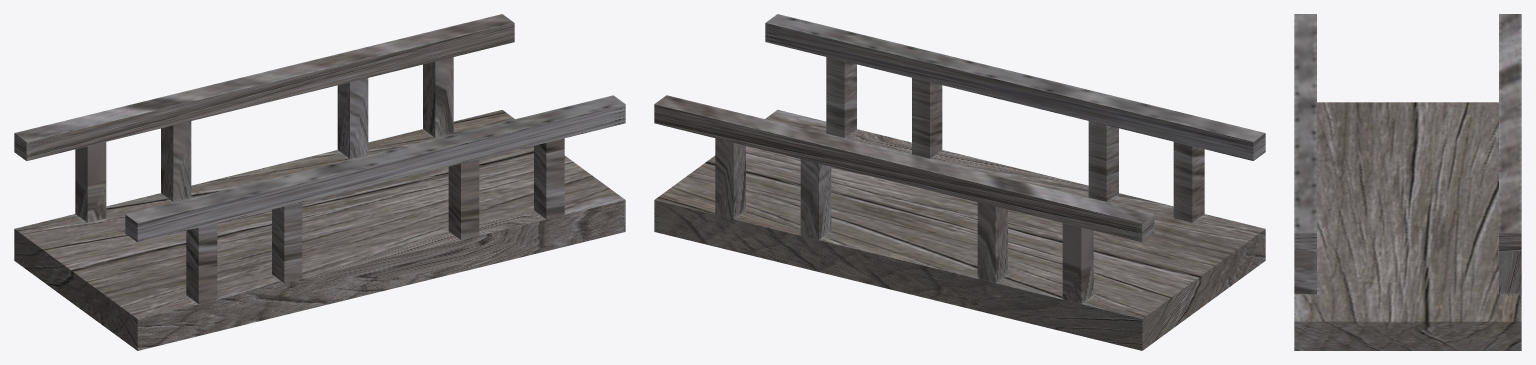
The model's file is Bridge.fbx.
3 views of the same model, side by side, from view 1: azimuth 30°, elevation 25°; view 2: azimuth 150°, elevation 25°; view 3: azimuth 270°, elevation 25° (orthographic). The views are drawn at different scales.
Visible parts, largest first — view 1: pCube2; view 2: pCube2; view 3: pCube2.
Part boxes in pixels (left/top/right/bottom): pCube2: left=14, top=14, right=625, bottom=350; pCube2: left=654, top=14, right=1265, bottom=350; pCube2: left=1294, top=14, right=1521, bottom=350.
Bounding box in the file's own units: 4 × 1 × 1.75.
Materials: 1 (1 with a texture image).
